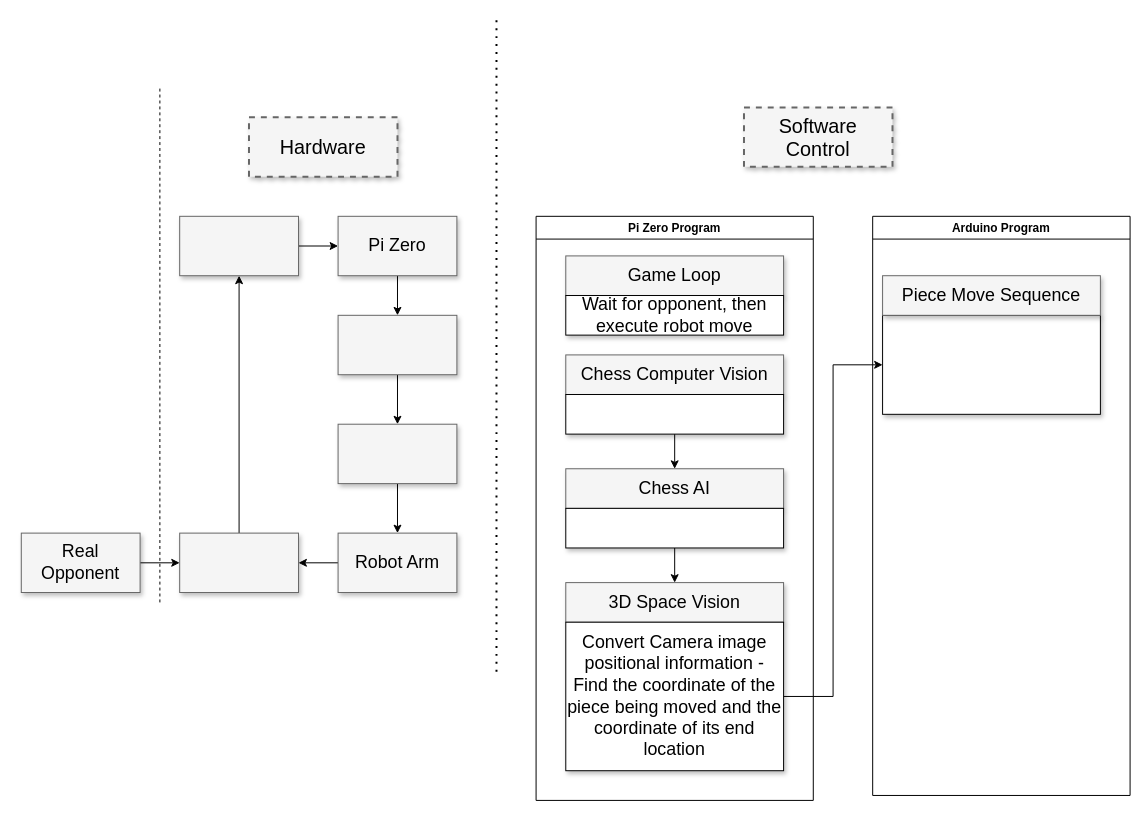
This 1147x818 diagram has some shape labels left out. Here are the shapes that lost their labels. From the top down, the centre of each, then its label:
At (x=239, y=247): "Camera".
At (x=398, y=346): "Arduino".
At (x=992, y=365): "Use coordinates given from Pi and inverse kinematics to move a piece".
At (x=675, y=415): "Convert Camera image to chess position (FEN)".
At (x=398, y=455): "Servo Controller".
At (x=675, y=529): "Determines best move from given position".
At (x=239, y=563): "Chess Board".
